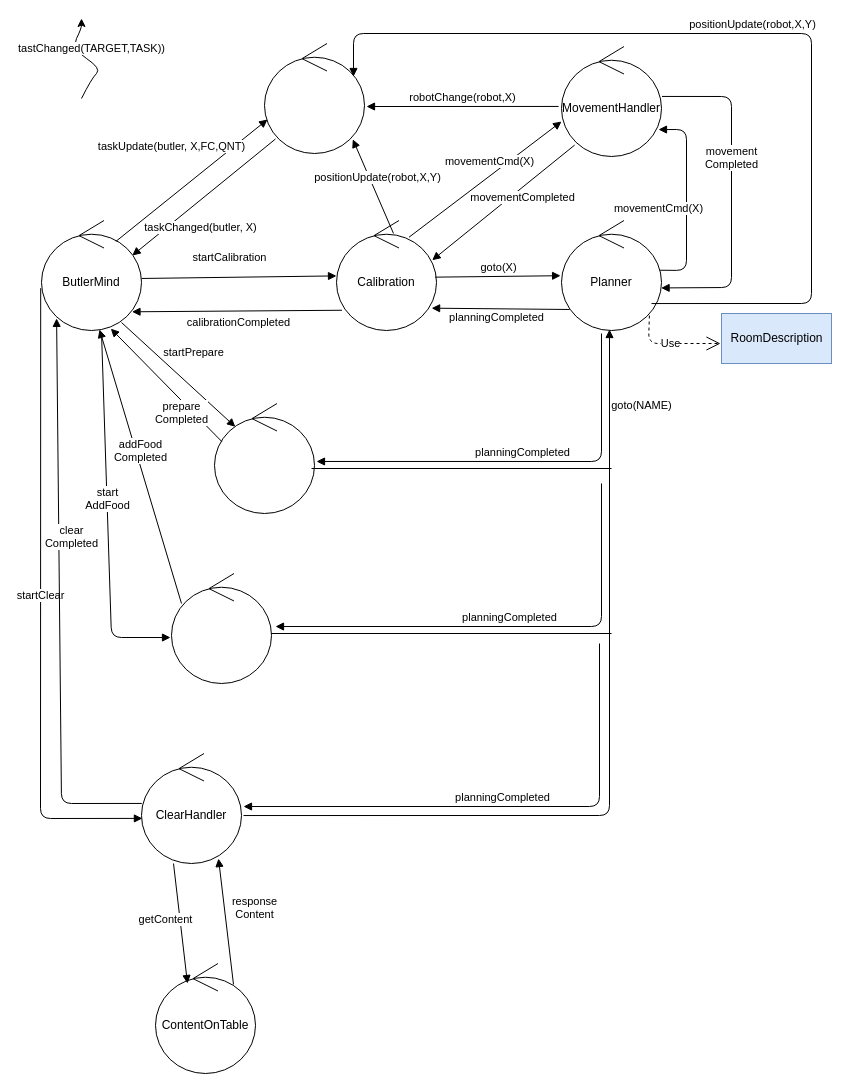
The diagram is 850 pixels wide and 1091 high, and some of its shapes have lost their labels. Here are the shapes that lost their labels. From the top down, the centre of each, then its label:
the point at 314,98: ResourceModel Butler
the point at 264,458: PrepareHandler
the point at 221,628: AddFood Handler
